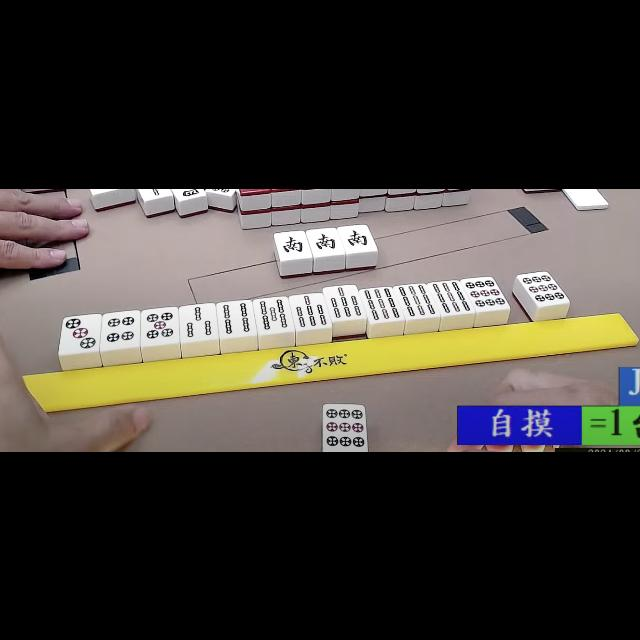b3: (180, 304, 216, 340)
b4: (218, 300, 254, 336)
b5: (256, 297, 290, 331)
b7: (292, 294, 328, 328), (328, 286, 362, 318)
b9: (364, 287, 400, 321), (434, 280, 468, 314), (400, 284, 434, 316)
d3: (60, 314, 100, 352)
d4: (102, 311, 140, 347)
d5: (142, 308, 178, 344)
d9: (323, 404, 367, 450), (523, 269, 563, 303), (466, 276, 504, 308)
ws: (309, 228, 341, 254), (341, 225, 373, 251), (277, 231, 309, 257)
